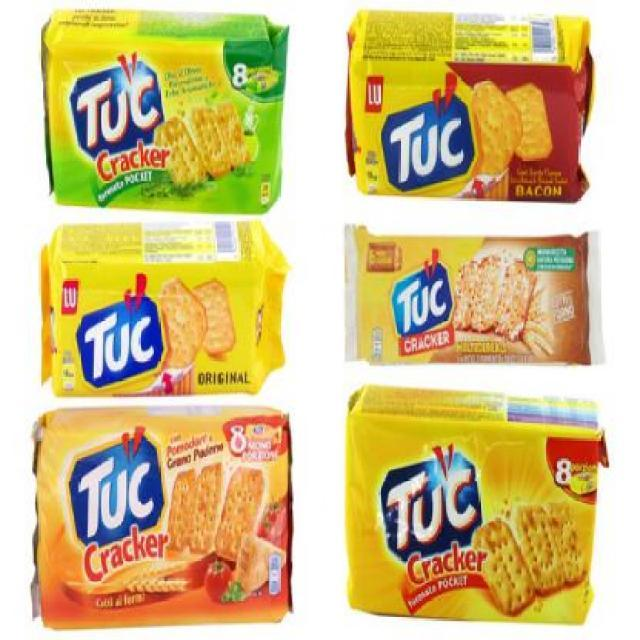Cracker: (340, 382, 608, 630), (31, 405, 297, 630), (28, 1, 288, 217), (334, 5, 600, 210), (31, 222, 291, 398), (336, 218, 610, 368)
